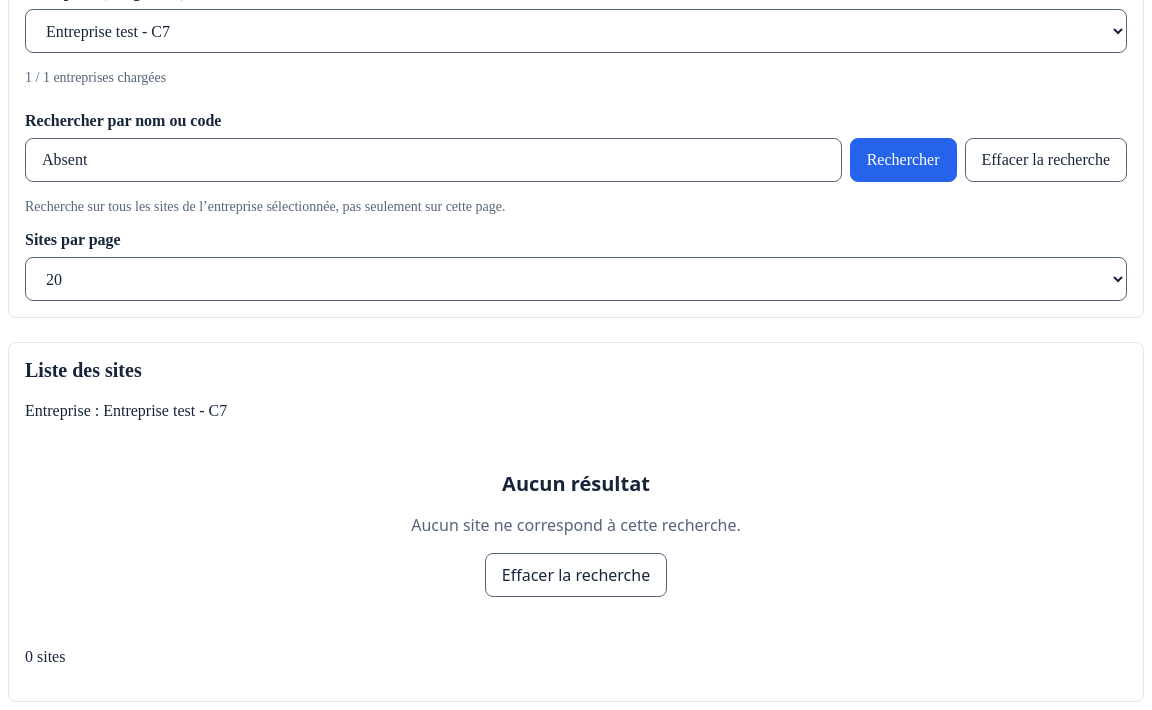
it: Sites list page and URL › distinguishes empty sites and empty search (search=true)
(page scrolled)
Expected: the element that starts with "Aucun résultat" shows "Aucun site ne correspond à cette recherche.", [411,514,741,536]
Click the button "Effacer la recherche" below "Aucun résultat" at x=576, y=575, box [485,553,667,597]
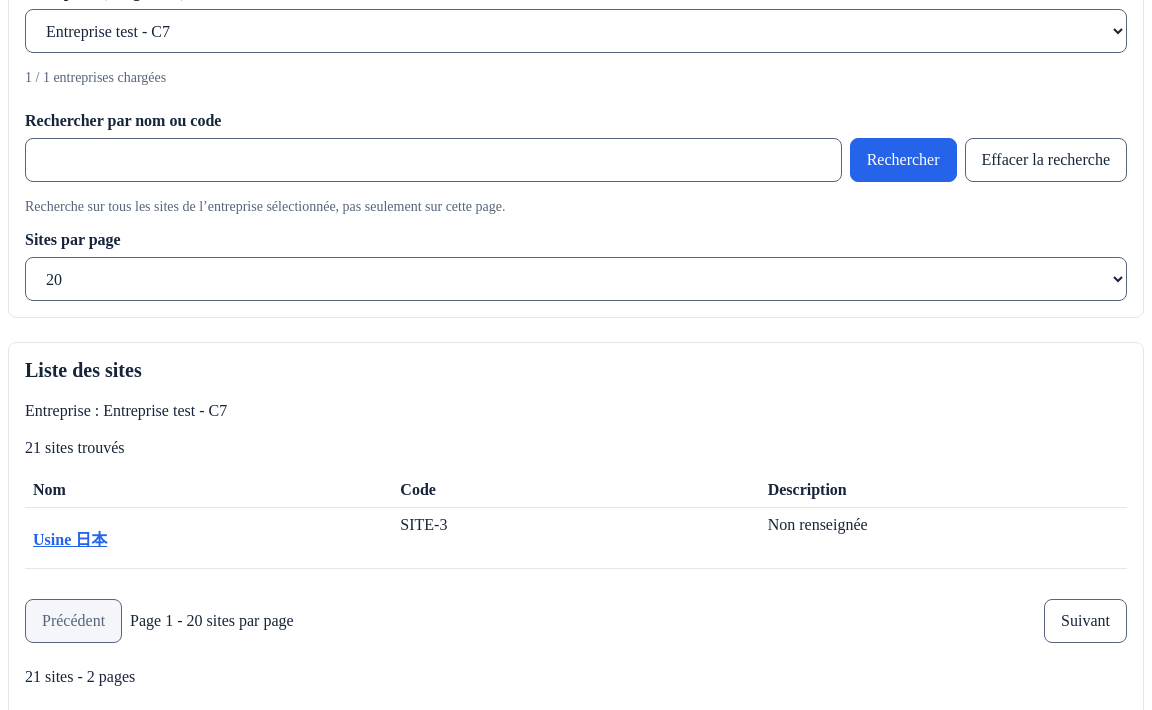
Expected: the navigation bar is shown, [25,593,1127,649]
Expected: the text "21 sites - 2 pages" is shown, [25,668,135,685]
